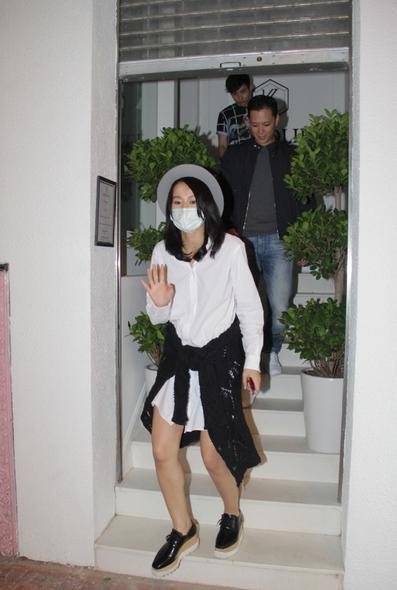NONE: (252, 119, 274, 144), (231, 88, 249, 108)
OK: (170, 193, 203, 232)
